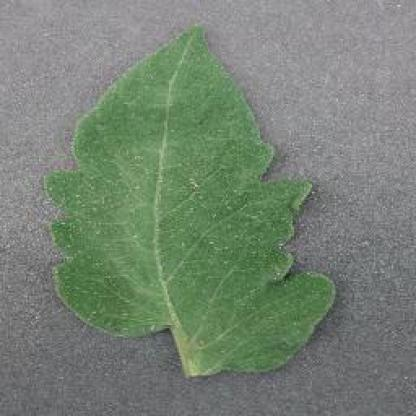good leaf: (68, 29, 324, 336)
